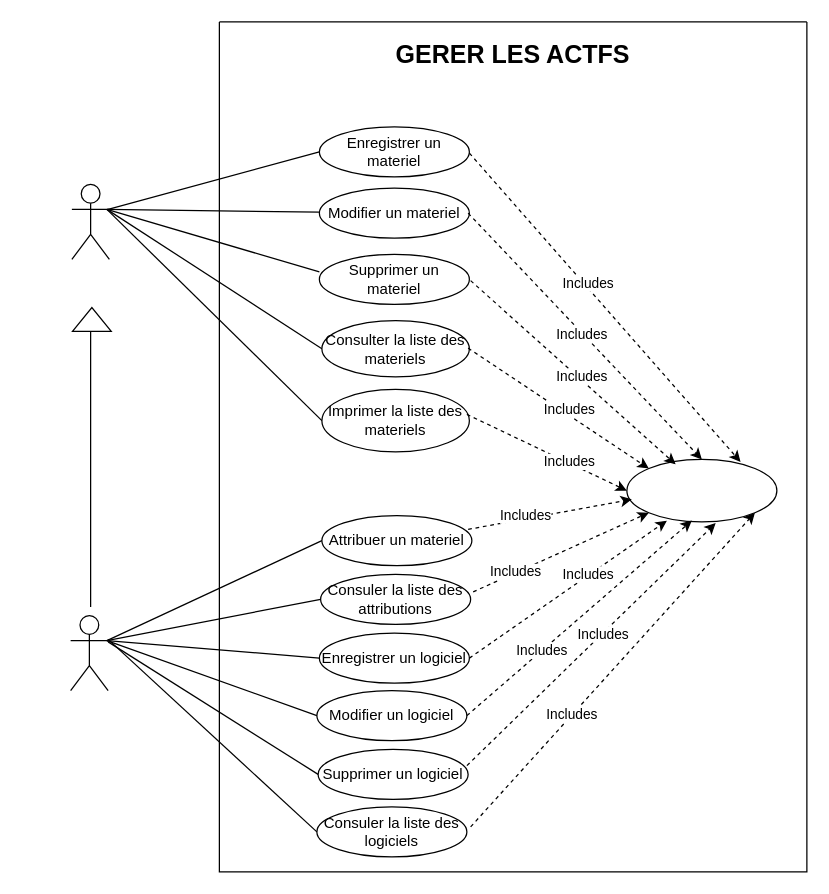
Some shapes in this 829 by 894 pixel diagram are drawn without their labels. The centre of each missing label's shape, as x and y in pixels:
"ADMINISTRATEUR" goes at (x=88, y=652).
"S'authentifier" goes at (x=701, y=490).
"TECHNICIEN INFRASTRUCTURE" goes at (x=90, y=221).
